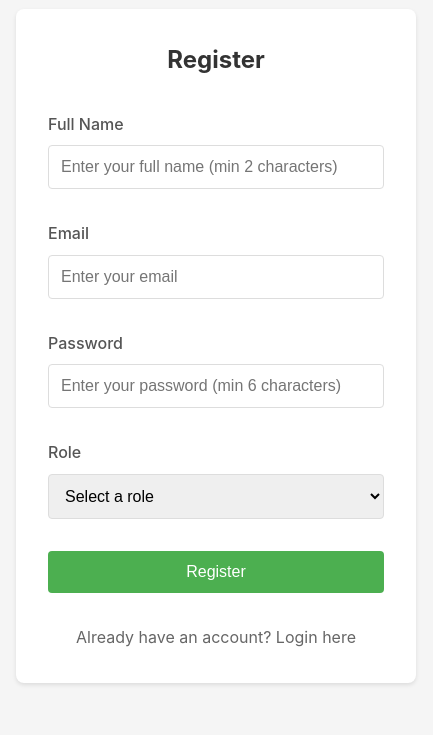
Register.vue › validates email format
This screenshot has width=433, height=735.
# Fill in form with invalid email
In the field labelled "Full Name": (216, 167) x1=48 y1=145 x2=384 y2=189, type "John Doe"
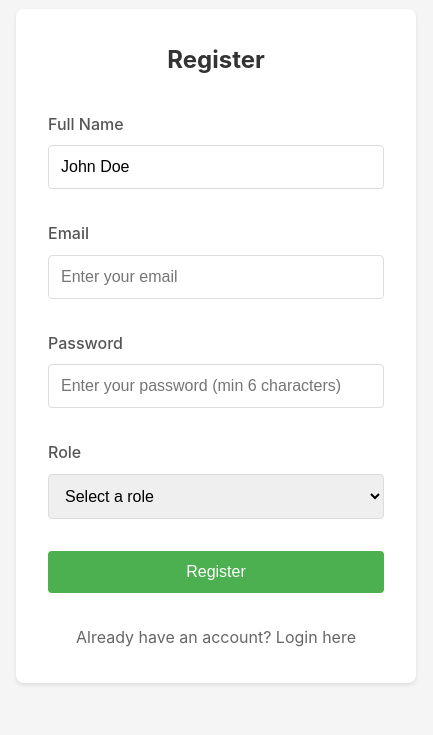
In the field labelled "Email": (216, 277) x1=48 y1=255 x2=384 y2=299, type "invalid-email"
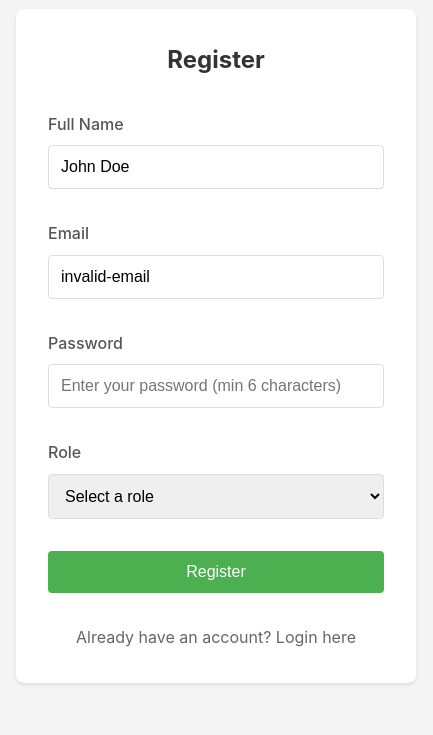
In the password field labelled "Password": (216, 386) x1=48 y1=364 x2=384 y2=408, type "password123"
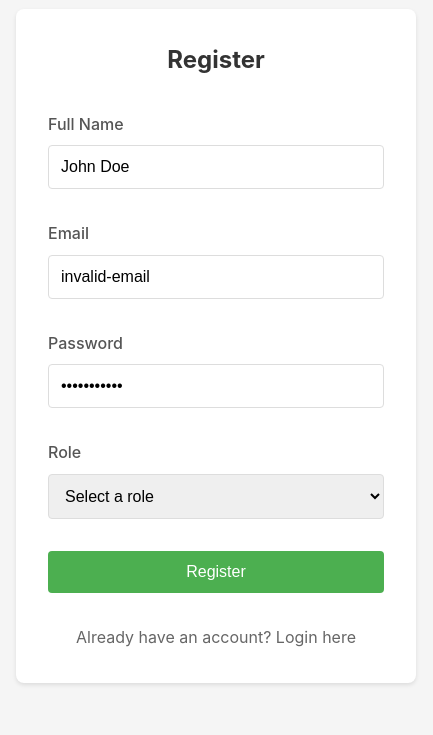
Select "Developer" in the dropdown labelled "Role": (216, 497) x1=48 y1=474 x2=384 y2=519
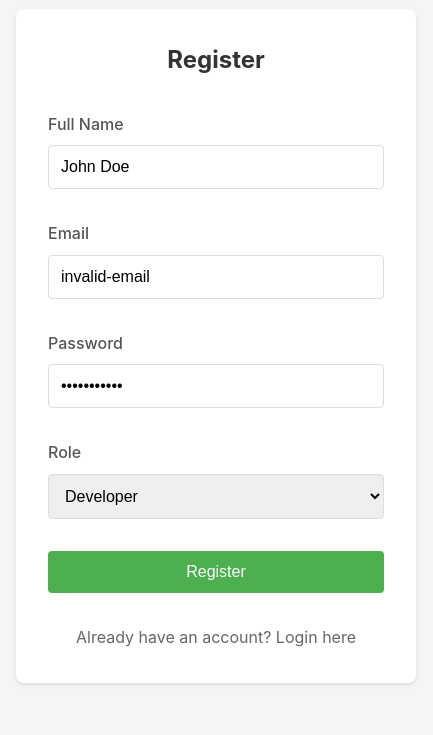
# Submit form
Submit the form, box x1=48 y1=112 x2=384 y2=651
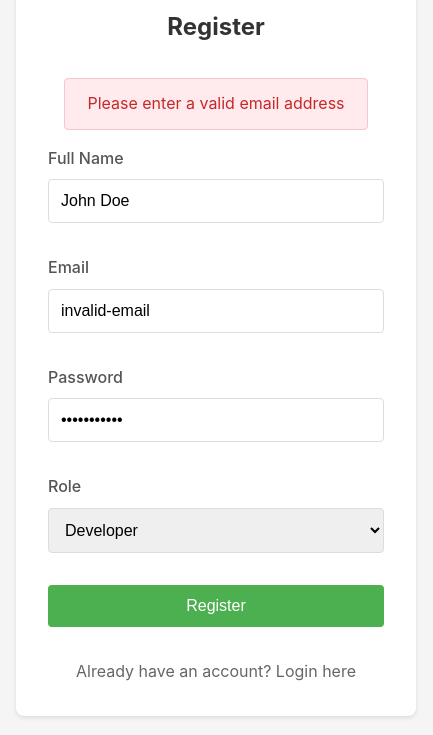
Expected: the text "Please enter a valid email address" is shown, x1=64 y1=78 x2=368 y2=130
